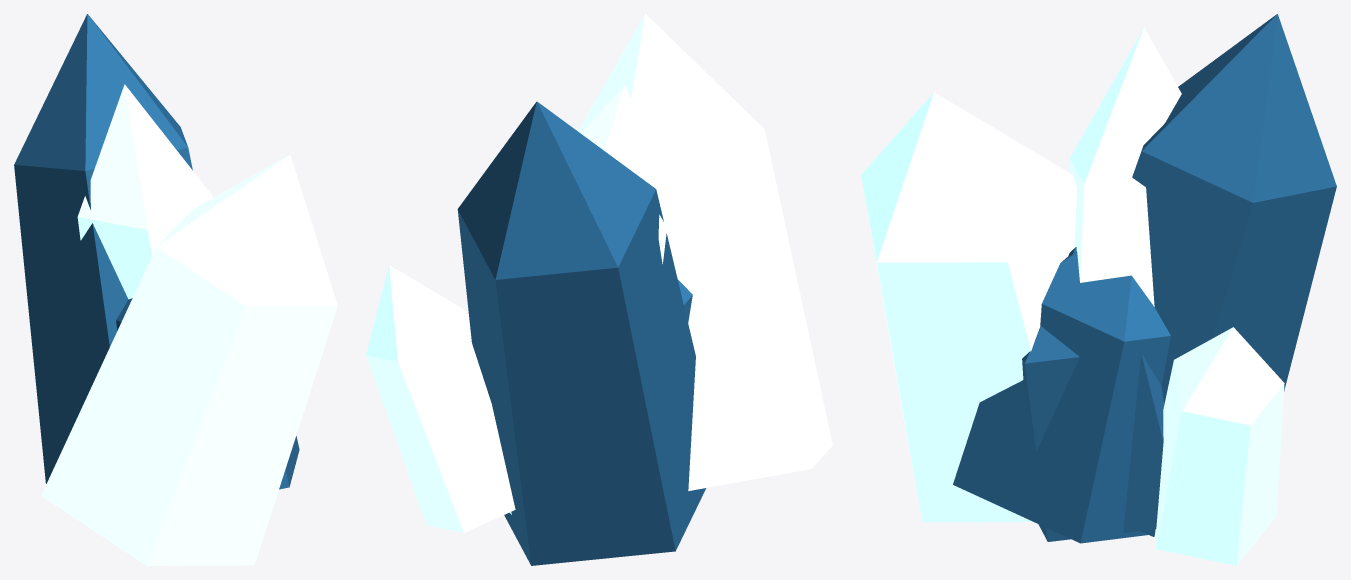
The model's file is cristais-he3.glb.
3 views of the same model, side by side, from view 1: azimuth 30°, elevation 25°; view 2: azimuth 150°, elevation 25°; view 3: azimuth 270°, elevation 25° (orthographic). The views are drawn at different scales.
Parts seen in each view (by area): view 1: cristais-he3; view 2: cristais-he3; view 3: cristais-he3.
Part boxes in pixels (<box>): cristais-he3: <box>14,14,337,565</box>; cristais-he3: <box>366,14,832,565</box>; cristais-he3: <box>861,14,1336,565</box>.
Bounding box in the file's own units: 8.5 × 11.36 × 9.77.
